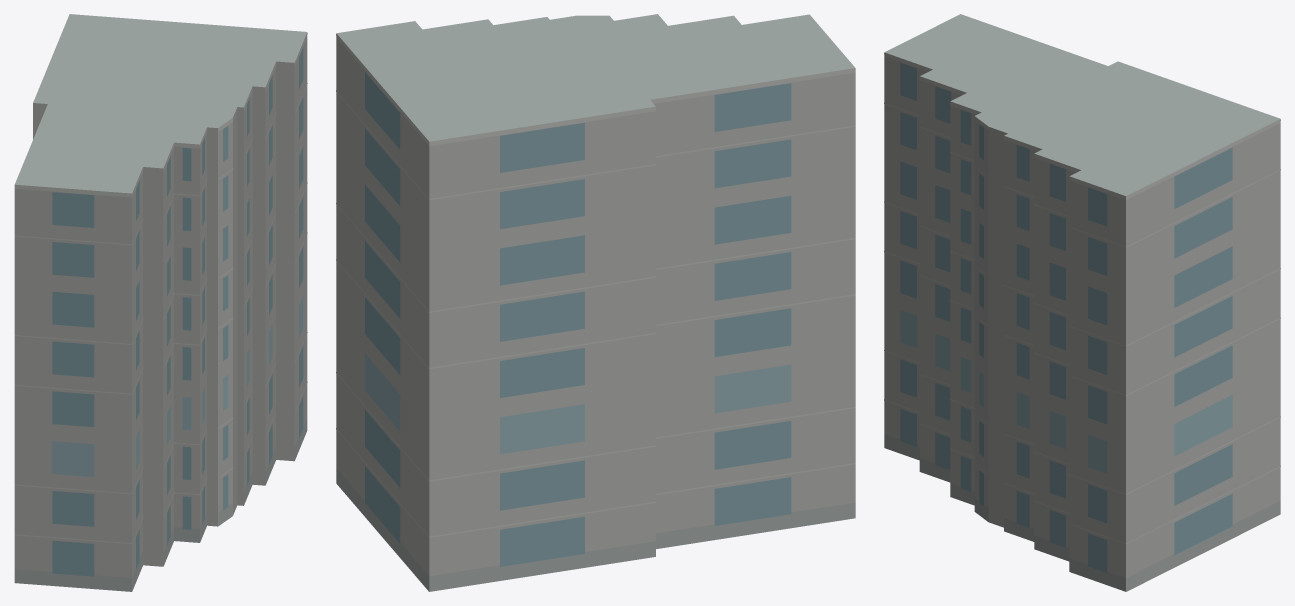
File: survey-upis-33037379.glb
3 views of the same model, side by side, from view 1: azimuth 30°, elevation 25°; view 2: azimuth 150°, elevation 25°; view 3: azimuth 270°, elevation 25° (orthographic). The views are drawn at different scales.
Parts seen in each view (by area): view 1: survey-upis-33037379.tmp; view 2: survey-upis-33037379.tmp; view 3: survey-upis-33037379.tmp.
Boxes of the visible parts, box(x1,y1,x2,y2) form: survey-upis-33037379.tmp: box(14, 14, 307, 591); survey-upis-33037379.tmp: box(336, 14, 855, 591); survey-upis-33037379.tmp: box(884, 14, 1280, 591).
Bounding box in the file's own units: 23.14 × 23.4 × 21.27.
